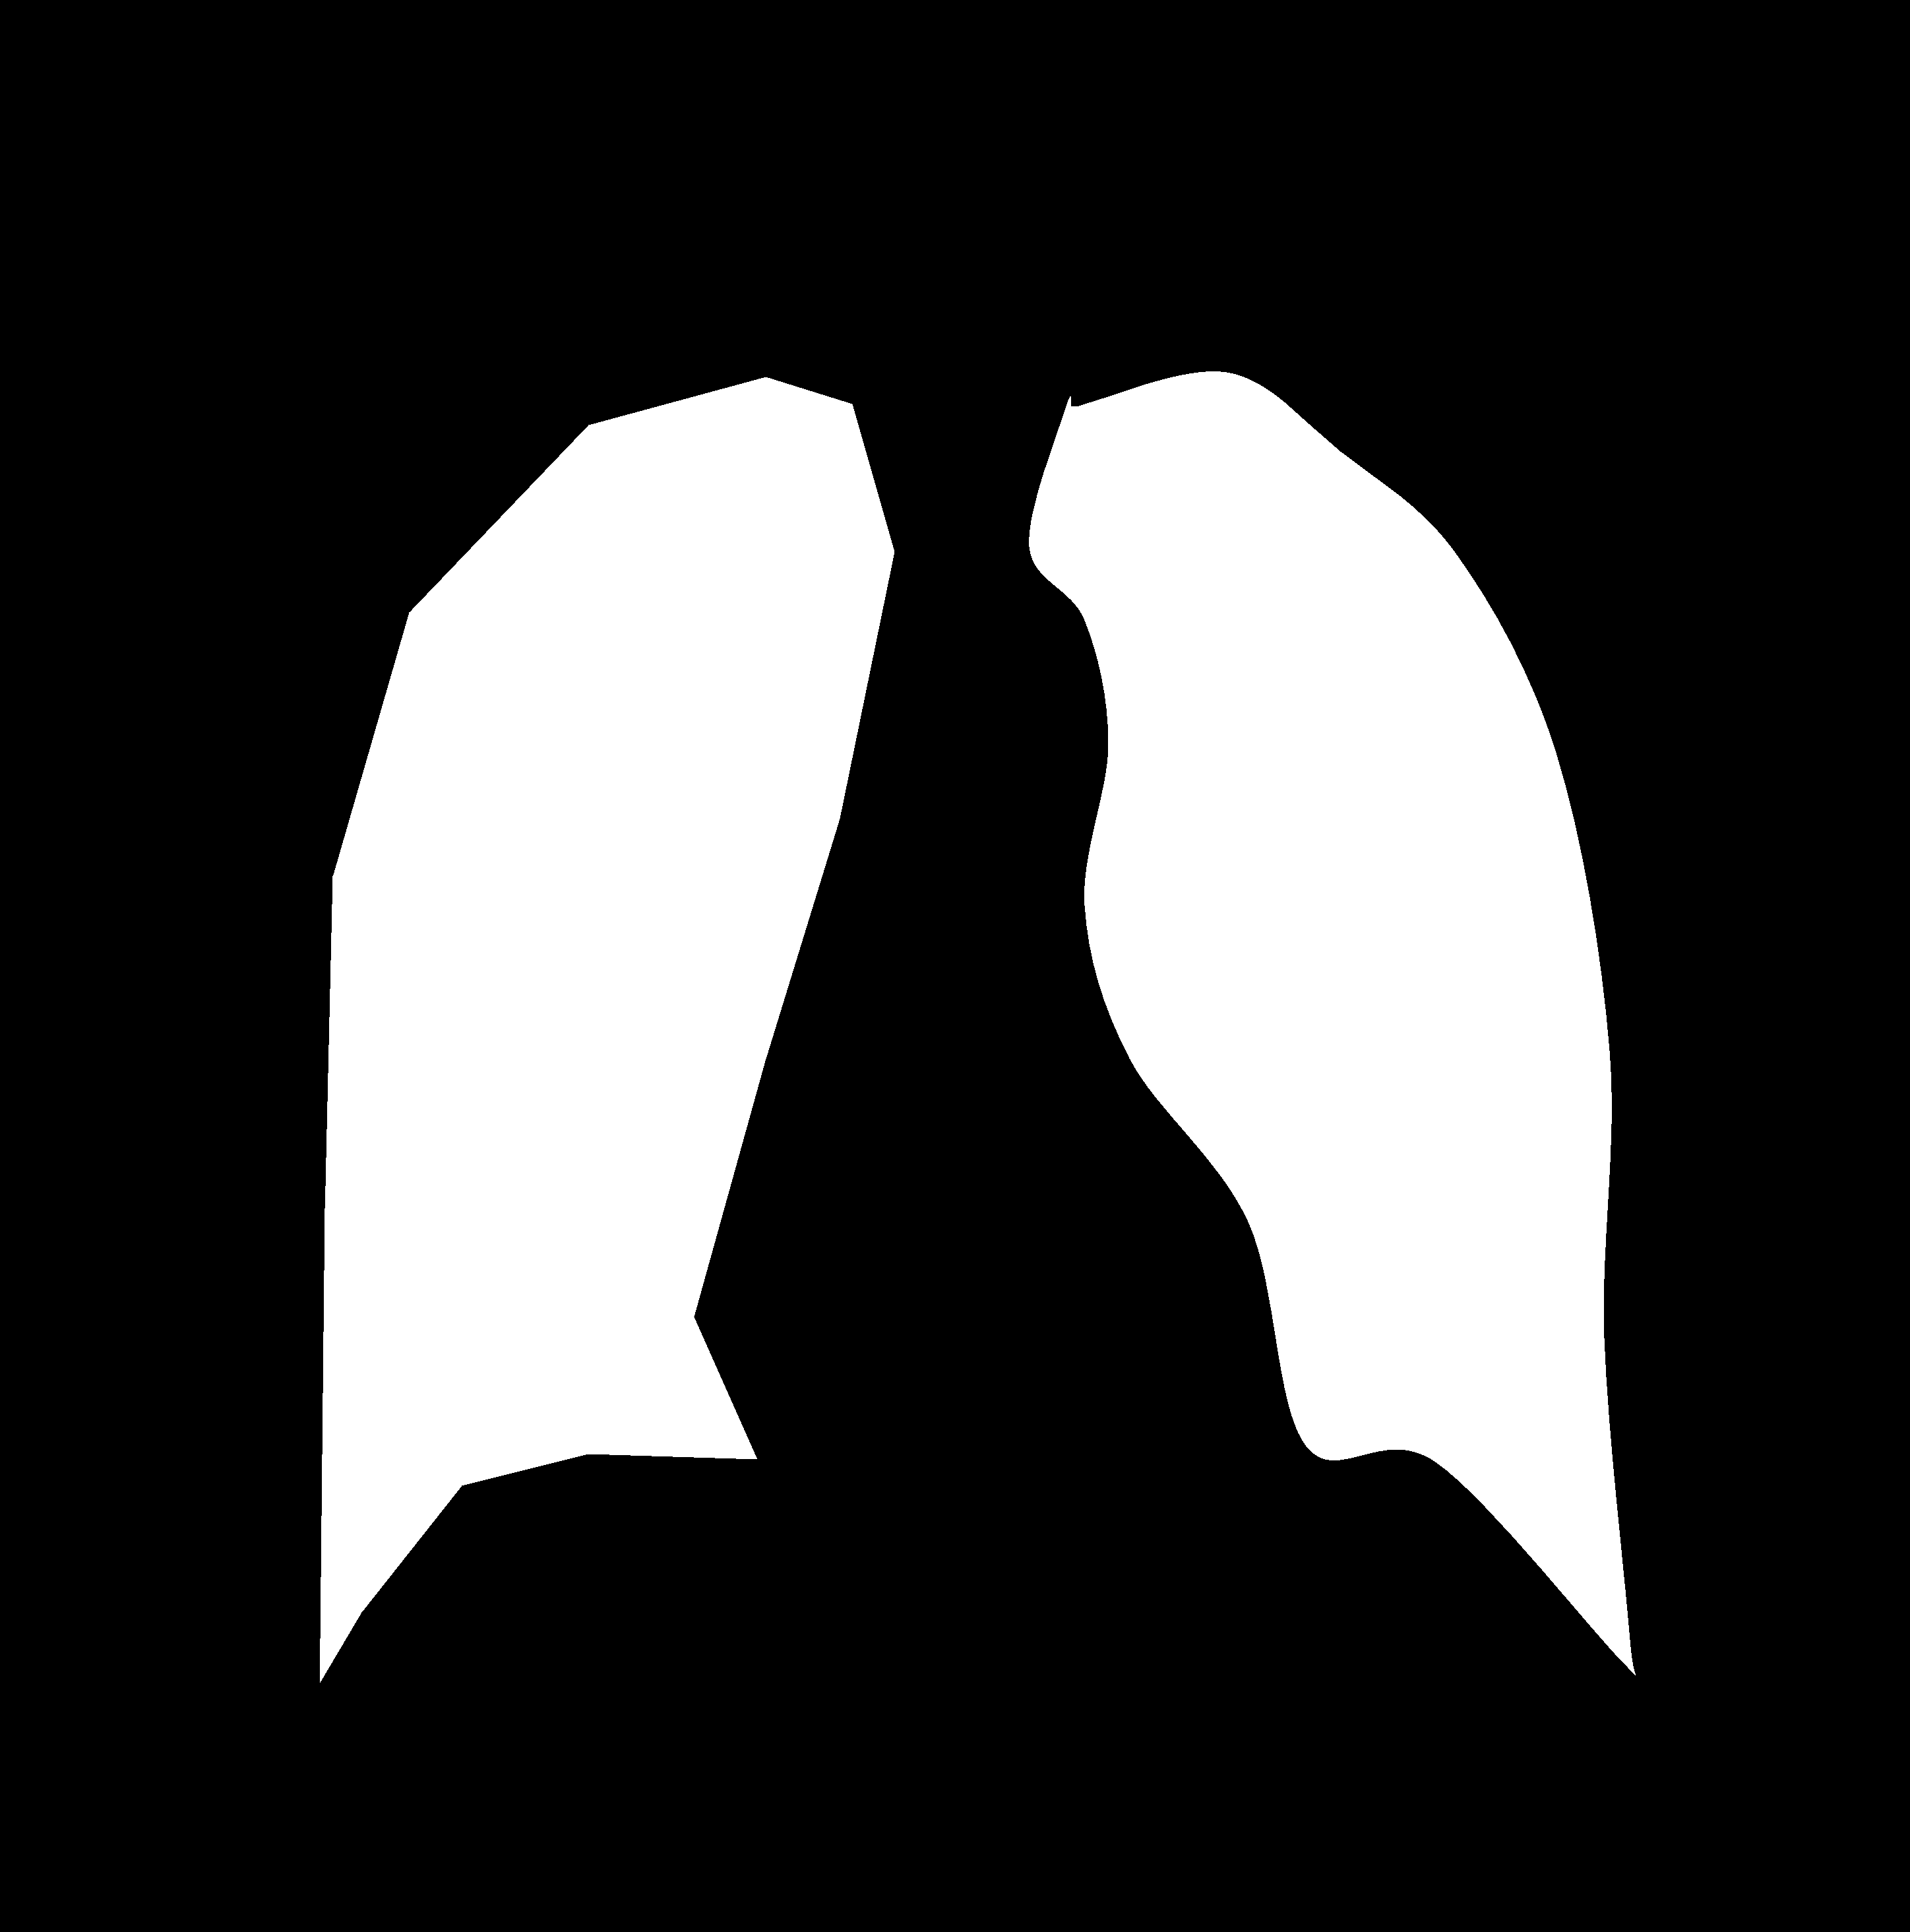heart: (701, 1062, 1303, 1571)
left_lung: (313, 376, 894, 1661)
right_lung: (1028, 371, 1634, 1663)
